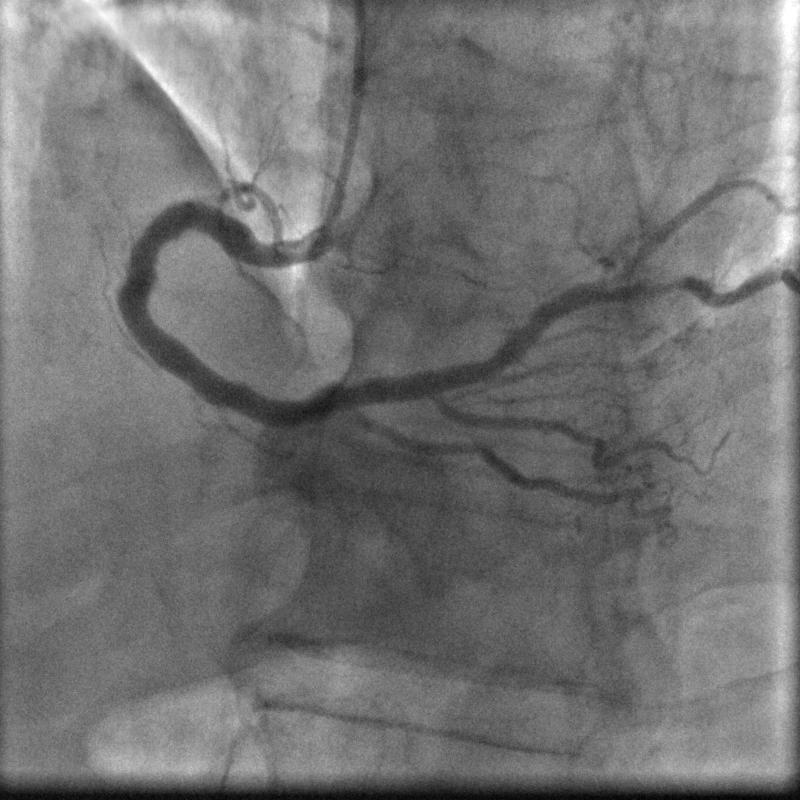Stenosis: (629, 272, 700, 305)
